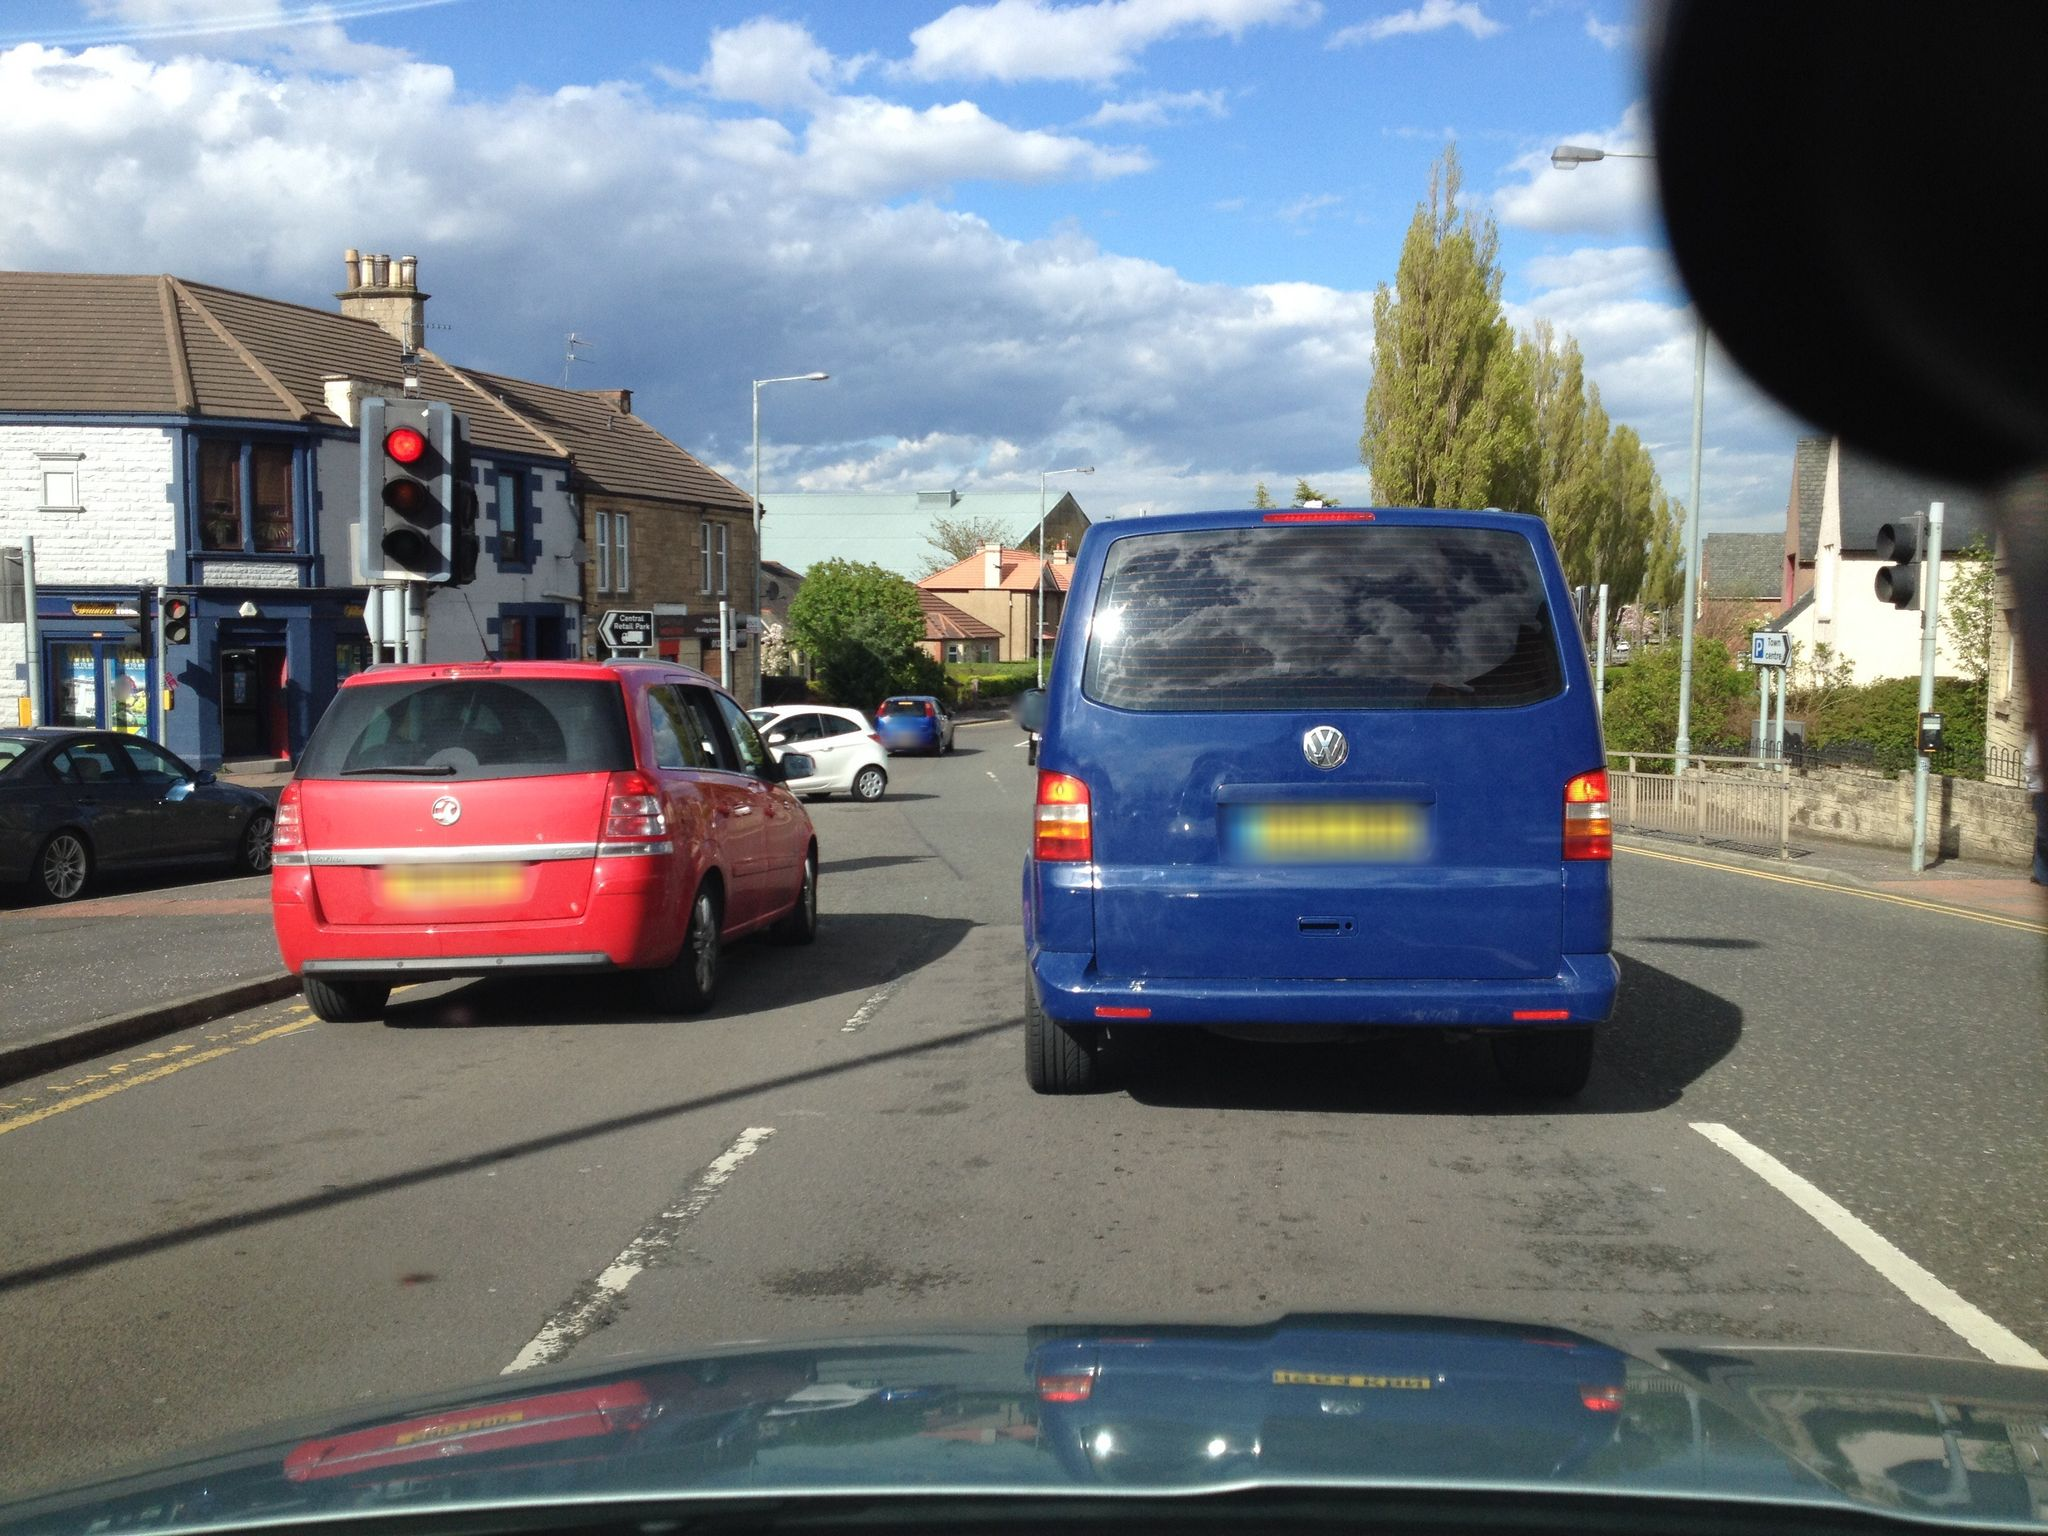car: (1009, 505, 1625, 1105), (264, 658, 827, 1016), (0, 724, 276, 907), (739, 702, 889, 800), (872, 694, 955, 755)
